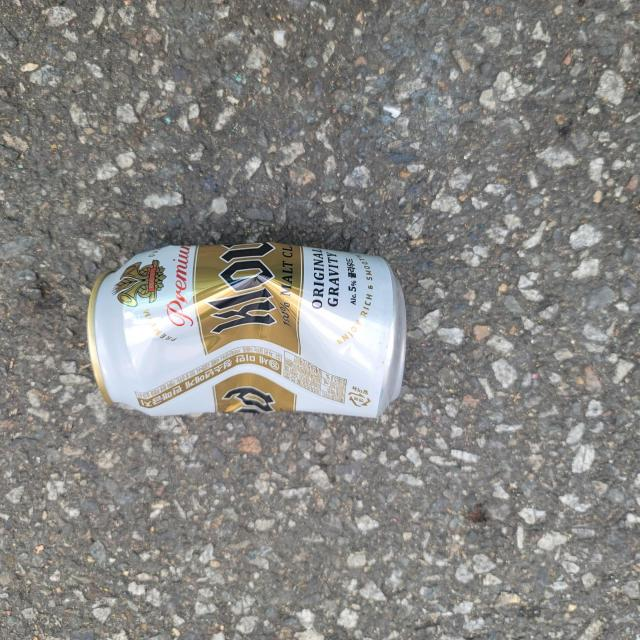can: (87, 242, 406, 418)
